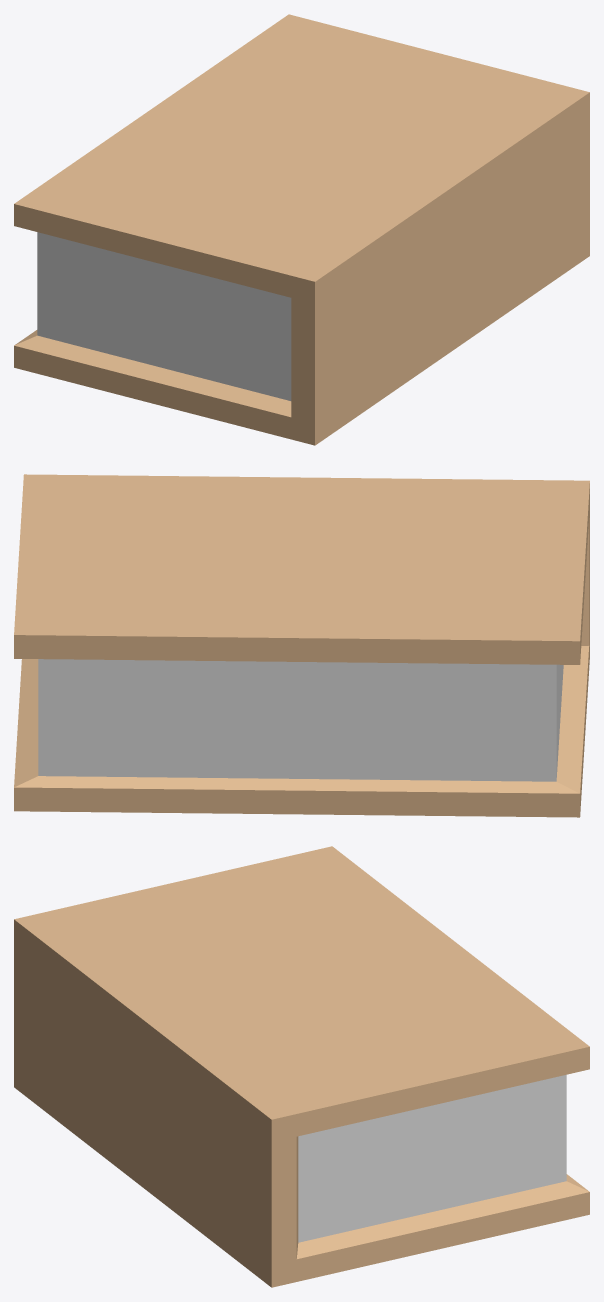
File: Libros.042.fbx
The picture shows the model from 3 angles, top to bottom: view 1: azimuth 30°, elevation 25°; view 2: azimuth 150°, elevation 25°; view 3: azimuth 270°, elevation 25°; orthographic projection. The views are drawn at different scales.
Visible parts, largest first — view 1: Libros.042; view 2: Libros.042; view 3: Libros.042.
Boxes of the visible parts, left/top/right/bottom form: Libros.042: left=14, top=14, right=589, bottom=445; Libros.042: left=14, top=474, right=589, bottom=817; Libros.042: left=14, top=846, right=589, bottom=1287.
Size of the model in its own units: 52.64 by 15.08 by 46.84.
